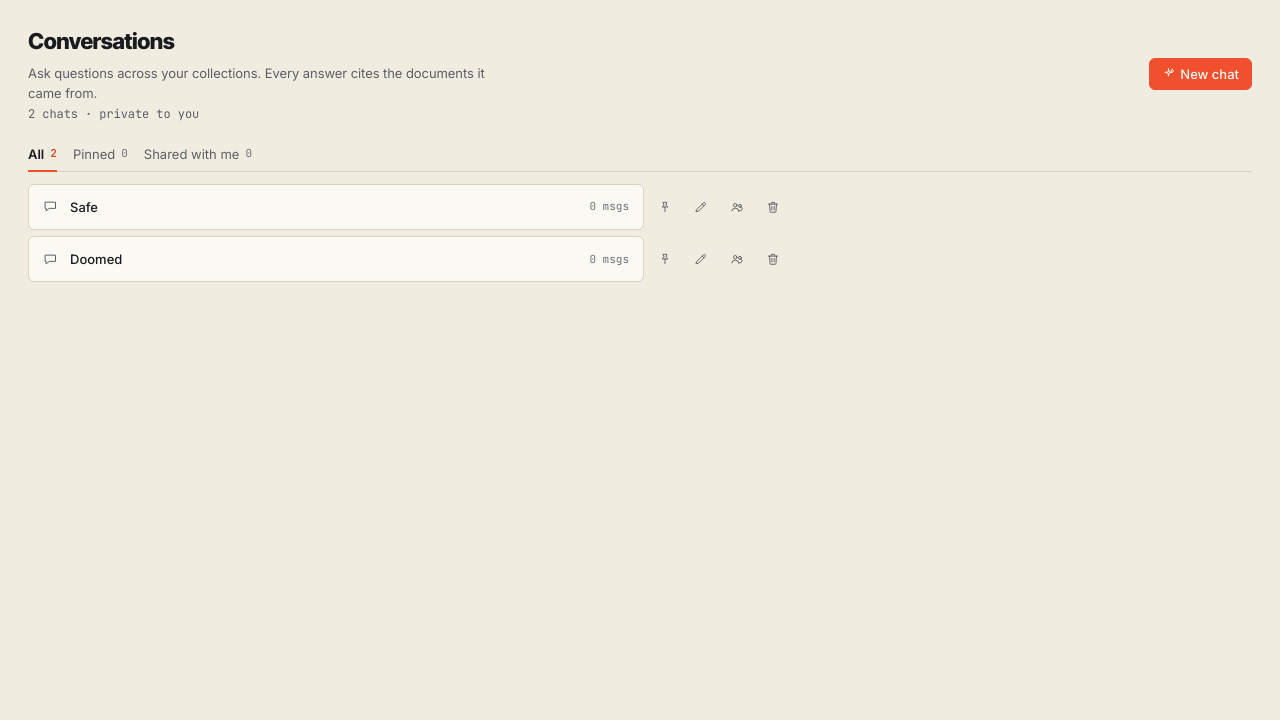
it: KbChatsPage › disables only the in-flight row's delete button, leaving other rows clickable
Click the button named "Delete Doomed" at (773, 259), box [758,244,788,274]
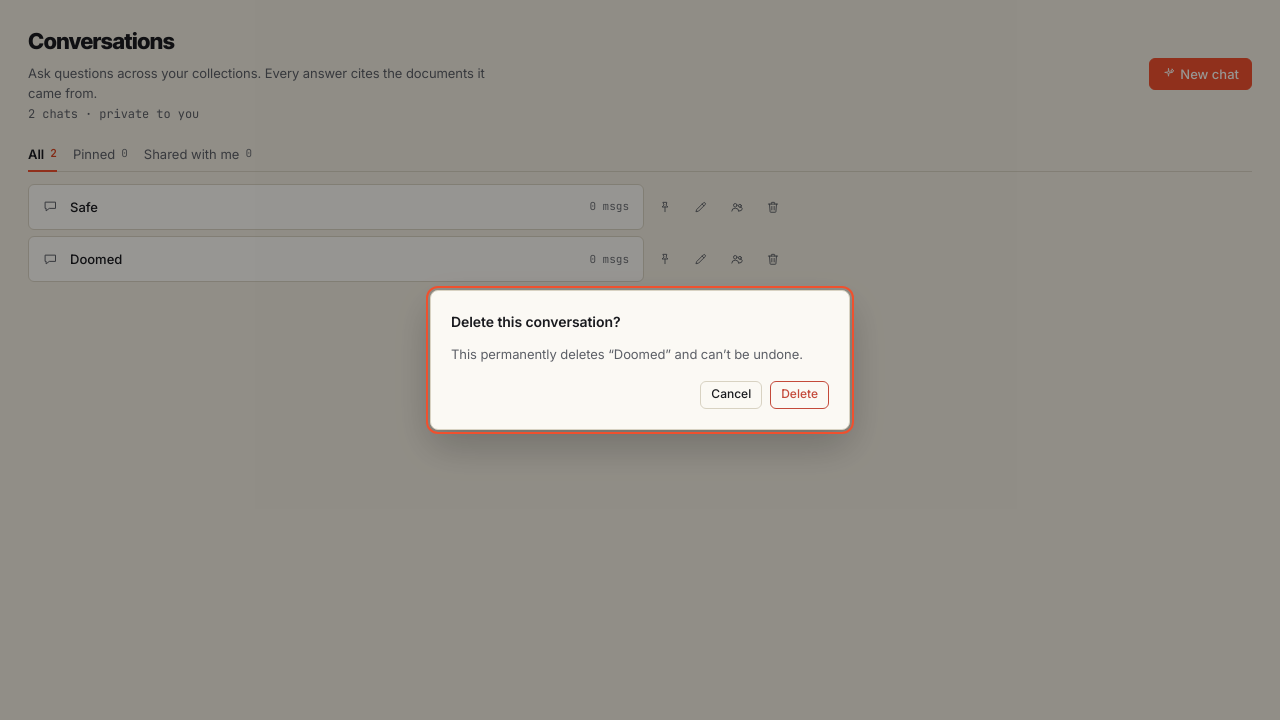
Click the button "Delete" at (800, 395), box [770,381,829,409]
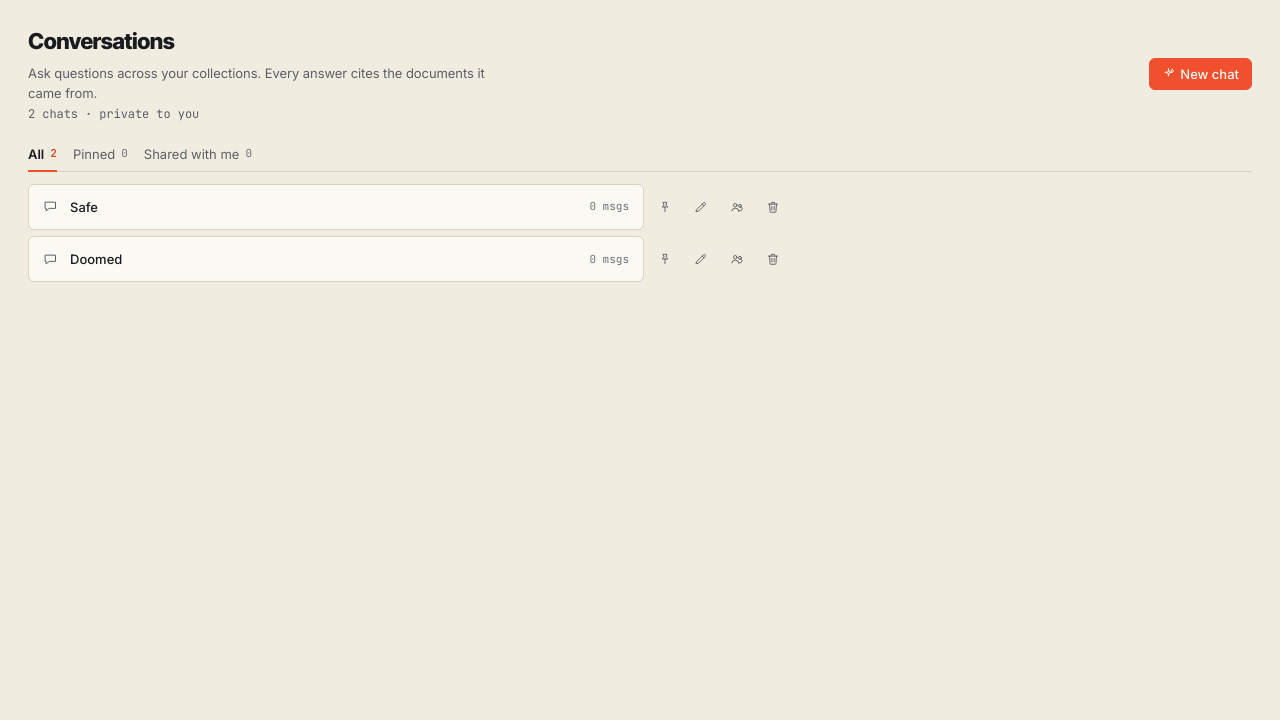
Expected: the button named "Delete Safe" is enabled, [758,192,788,222]
Expected: the button named "Delete Doomed" is disabled, [758,244,788,274]
